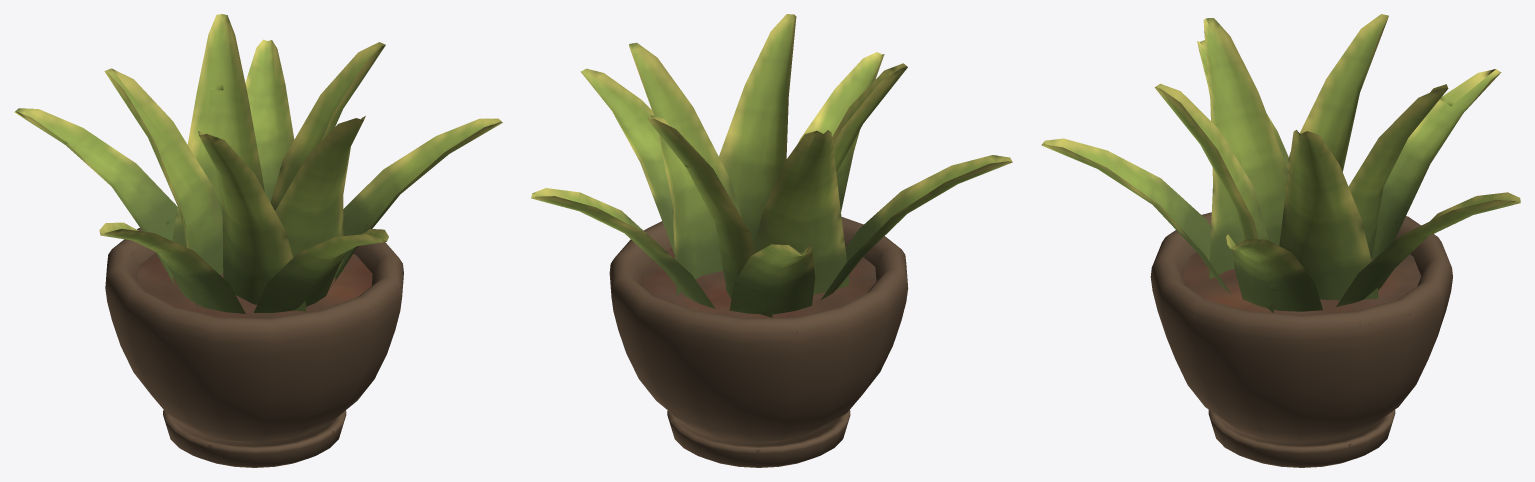
The model's file is pot.glb.
3 views of the same model, side by side, from view 1: azimuth 30°, elevation 25°; view 2: azimuth 150°, elevation 25°; view 3: azimuth 270°, elevation 25° (orthographic).
Parts seen in each view (by area): view 1: Plant; view 2: Plant; view 3: Plant.
Boxes of the visible parts, x1,y1,x2,y2 form: Plant: (14, 14, 502, 467); Plant: (531, 14, 1012, 467); Plant: (1041, 14, 1520, 467).
Size of the model in its own units: 2.94 by 2.43 by 2.87.
3 materials, 3 textured.
